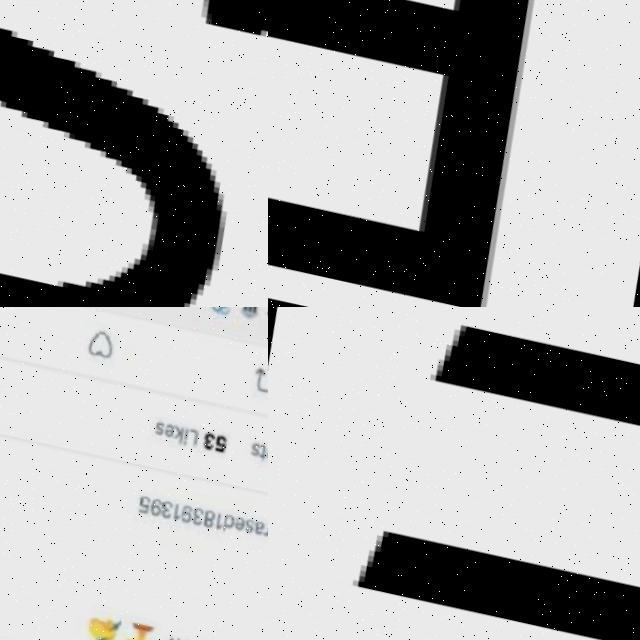1: (207, 513, 218, 532), (166, 504, 177, 523)
3: (153, 501, 169, 521), (184, 508, 199, 528), (197, 433, 211, 451)
5: (209, 435, 223, 454), (131, 496, 144, 515)
8: (195, 510, 210, 530)
9: (173, 505, 188, 525), (143, 499, 156, 518)
A: (246, 521, 258, 536)
D: (215, 514, 230, 535)
E: (268, 0, 523, 307), (359, 534, 640, 640), (227, 517, 239, 532), (159, 424, 171, 439), (259, 444, 268, 460), (261, 524, 268, 540)
I: (177, 429, 185, 445)
K: (167, 427, 179, 444)
L: (182, 430, 194, 447)
R: (255, 524, 265, 539)
S: (0, 0, 268, 307), (243, 442, 258, 460), (238, 519, 250, 534), (148, 422, 160, 437)
T: (253, 444, 264, 463)
Z: (262, 307, 268, 319)
